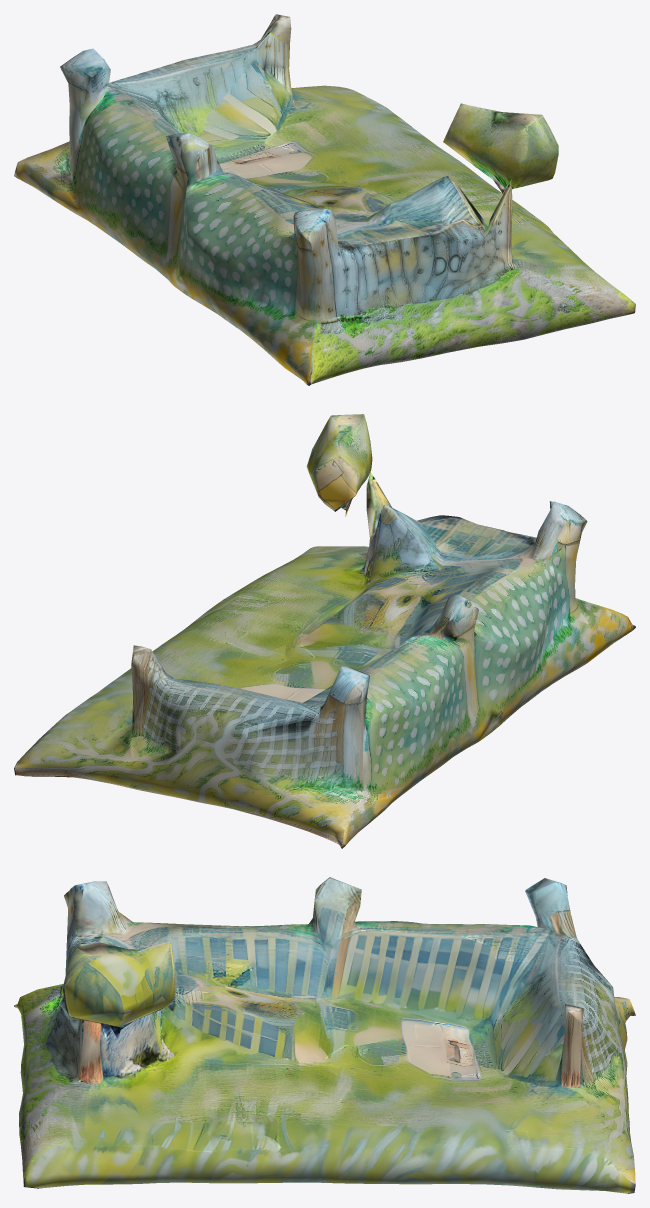
The model's file is dogmark.fbx.
The picture shows the model from 3 angles, top to bottom: view 1: azimuth 30°, elevation 25°; view 2: azimuth 150°, elevation 25°; view 3: azimuth 270°, elevation 25°; orthographic projection. The views are drawn at different scales.
Parts seen in each view (by area): view 1: Mesh_0; view 2: Mesh_0; view 3: Mesh_0.
Part boxes in pixels (x1,y1,x2,y2): Mesh_0: (14,14,635,385); Mesh_0: (14,414,635,848); Mesh_0: (14,877,635,1193).
Size of the model in its own units: 78.11 by 48.81 by 120.
1 material, 1 textured.
